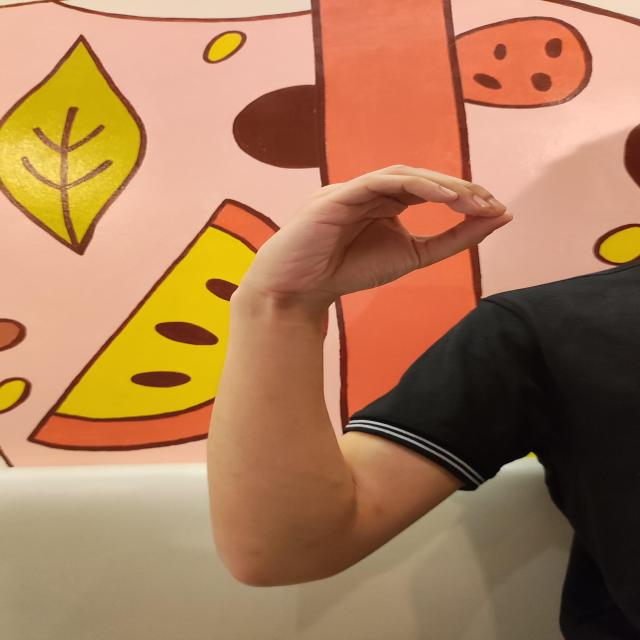O: (254, 164, 516, 300)
